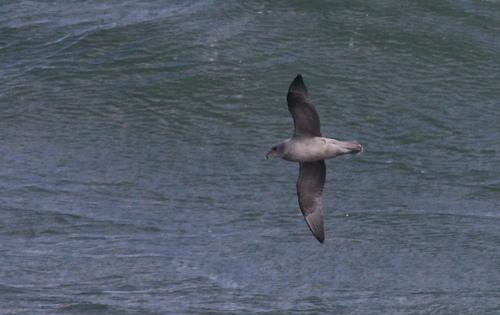bird: (261, 74, 361, 244)
